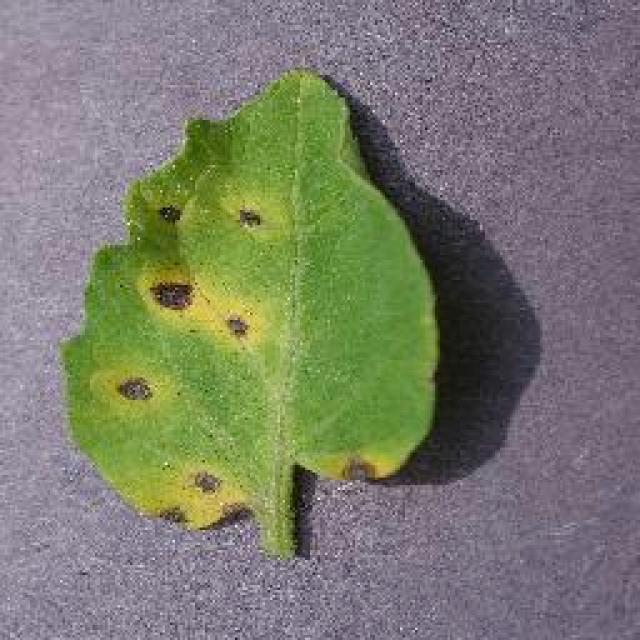Tomato Septoria spot leaf: (65, 65, 438, 530)
